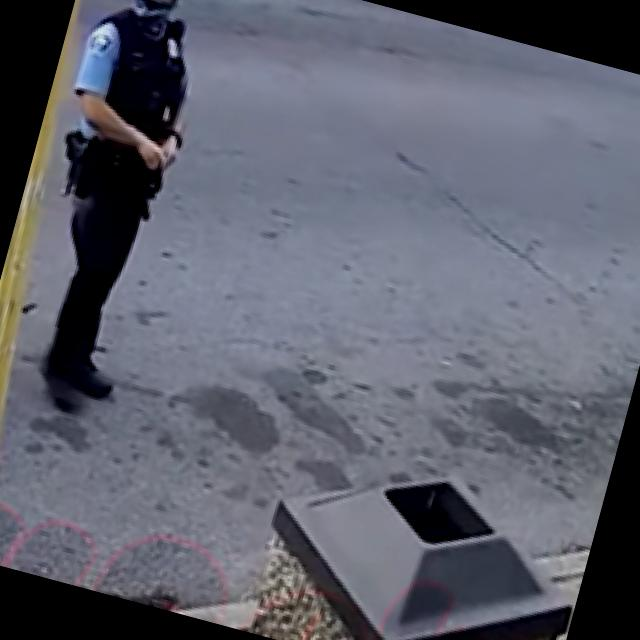person: (0, 0, 227, 423)
